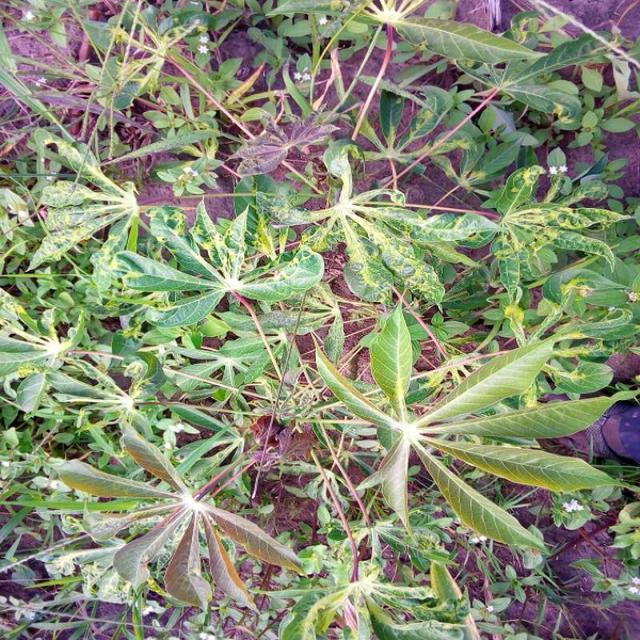cassava leaf: (2, 1, 640, 637), (314, 300, 626, 556), (56, 420, 309, 612), (369, 301, 414, 418)
